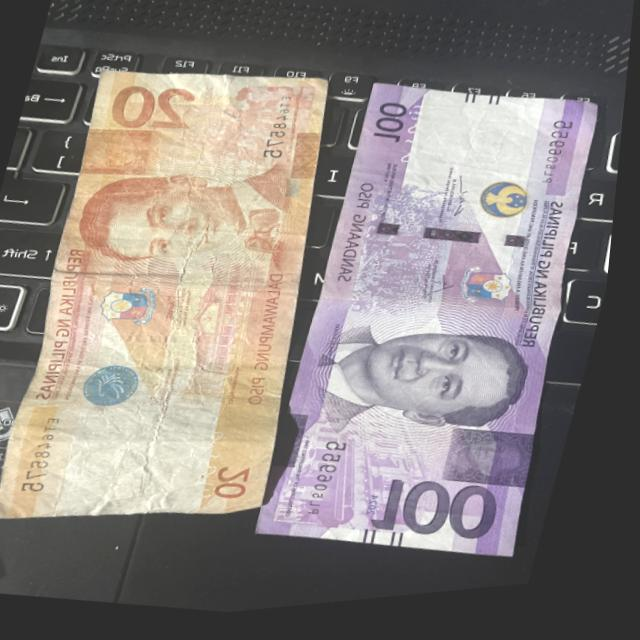concealed_value: (451, 429, 552, 504), (75, 119, 170, 187)
security_thread: (334, 203, 584, 281)
see_through_mark: (384, 96, 447, 184), (187, 423, 240, 514)
serial_number: (247, 89, 313, 178), (17, 409, 75, 505), (307, 439, 359, 533), (535, 121, 585, 202)
value: (365, 465, 519, 561), (97, 72, 210, 149)
watermark: (391, 94, 558, 209)
